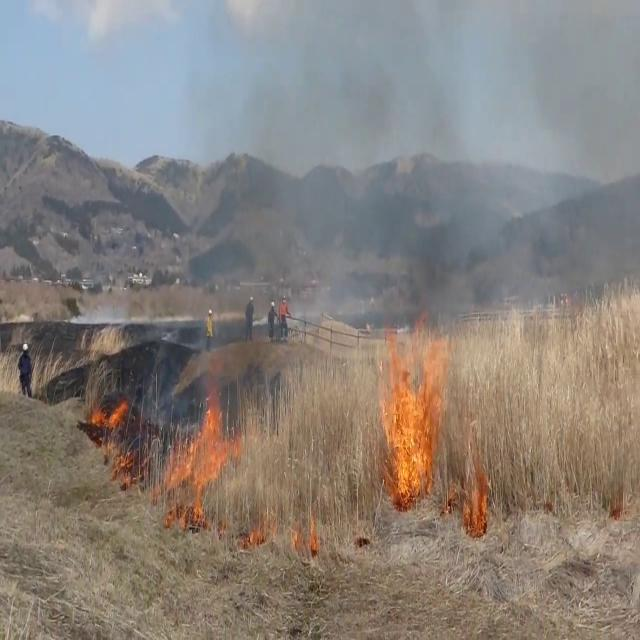Fire: (377, 319, 447, 504), (166, 382, 236, 519), (90, 382, 132, 439), (462, 456, 490, 536)
Smoke: (310, 0, 640, 352)
